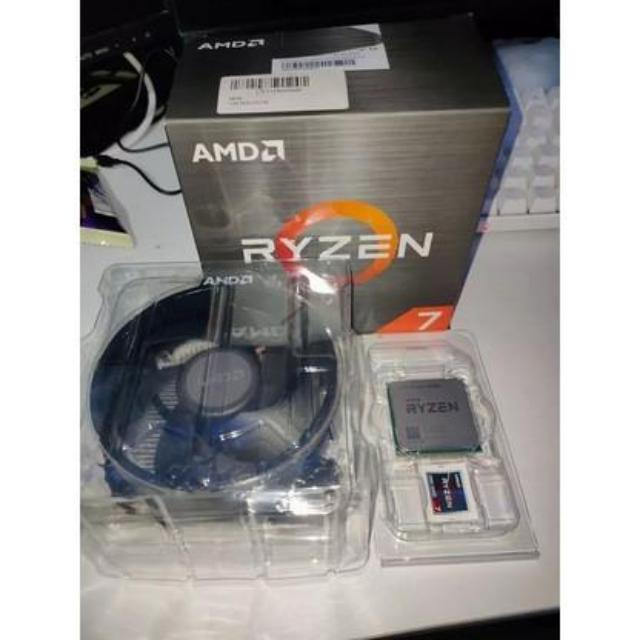CPU: (386, 376, 480, 450)
CPU_Fan: (103, 266, 340, 498)
